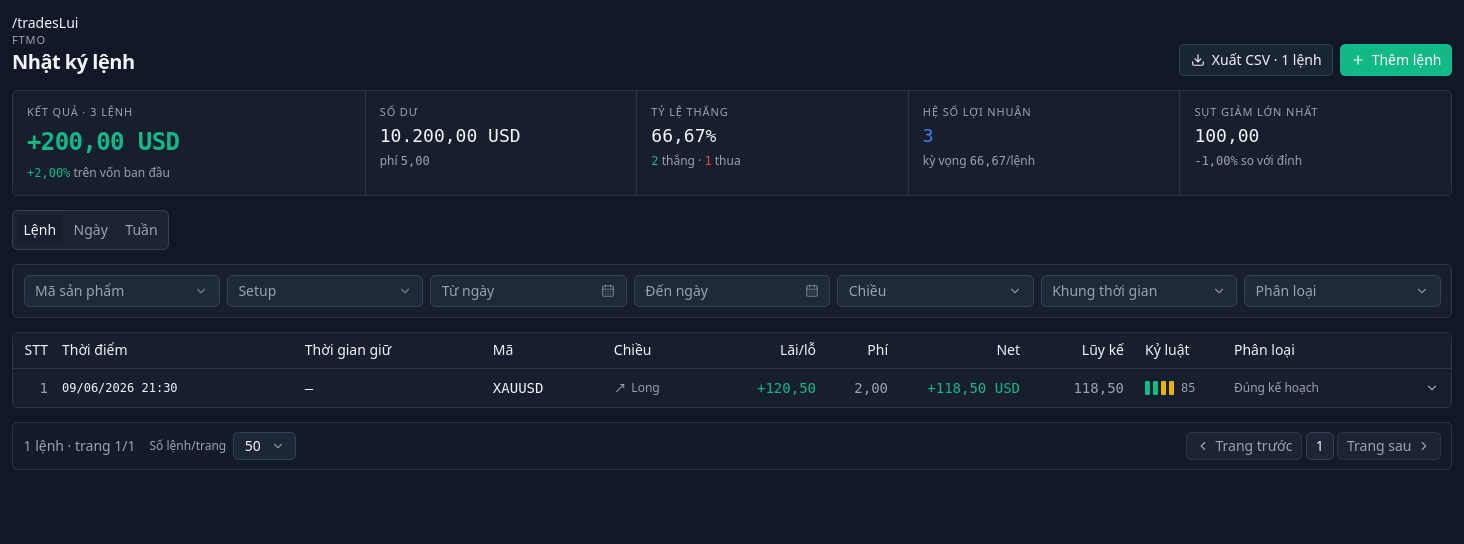
xuất lại thành công thì xoá thông báo lỗi cũ
Click the button "Xuất CSV · 1 lệnh". click: [1256, 60]
box: x1=1179 y1=44 x2=1333 y2=76
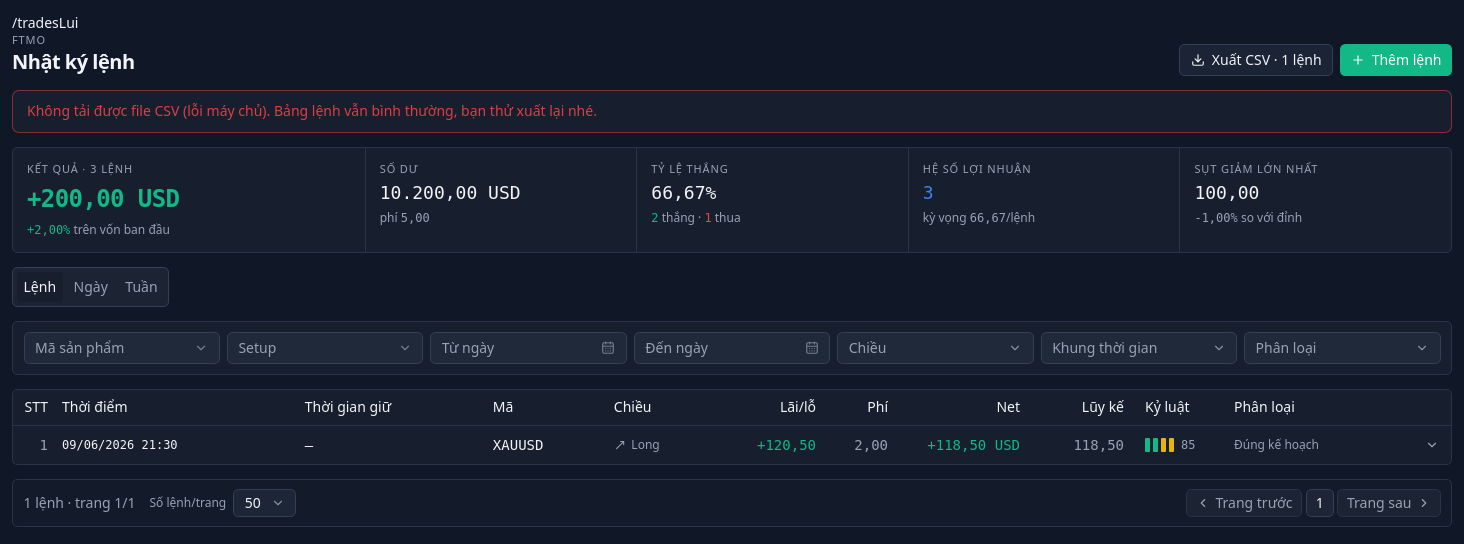
Expected: the text "Không tải được file CSV" is shown, x1=27 y1=101 x2=597 y2=120
Click the button "Xuất CSV · 1 lệnh". click: [1256, 60]
box: x1=1179 y1=44 x2=1333 y2=76
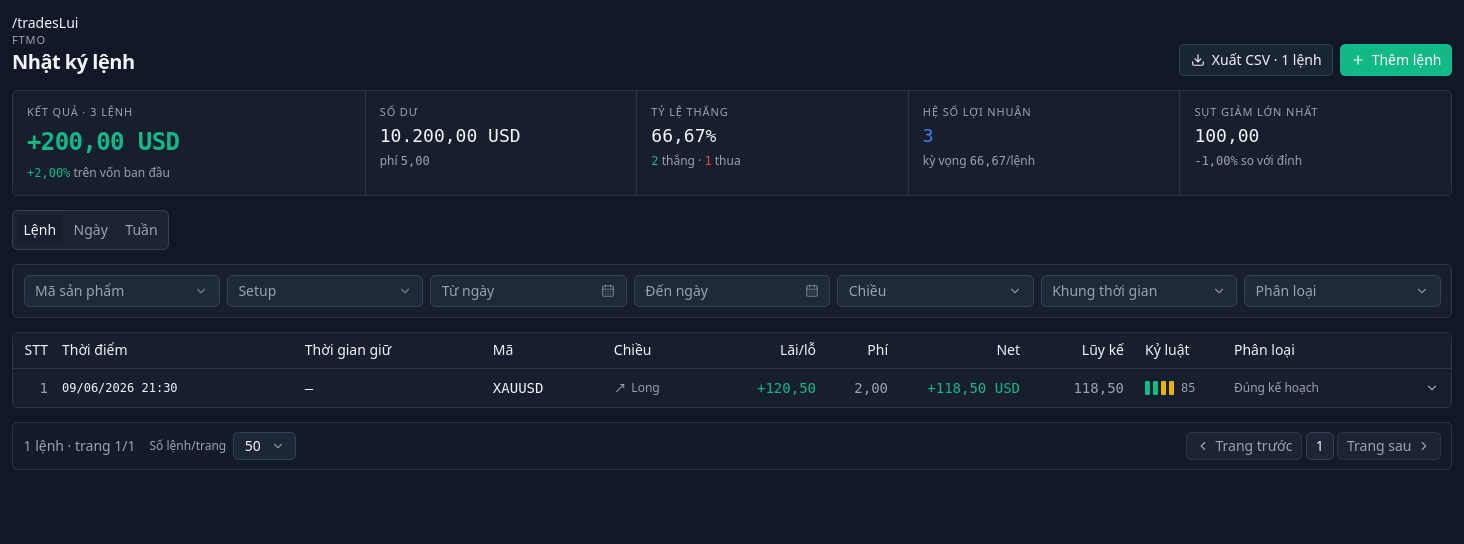
Expected: the text "Không tải được file CSV" is gone
